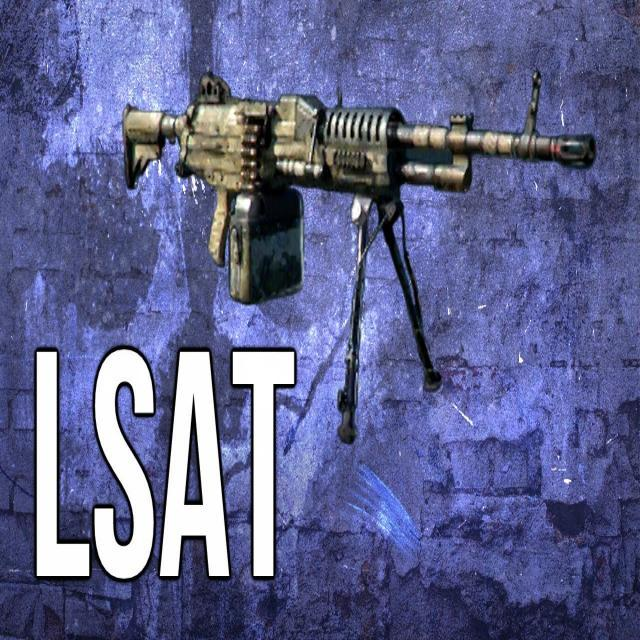weapon: (122, 71, 598, 447)
